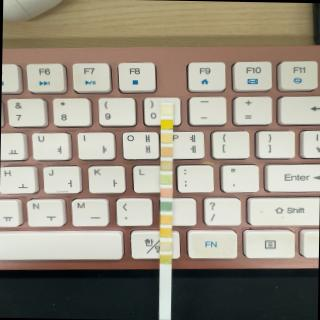mark: (160, 146, 173, 156), (160, 104, 173, 114), (160, 160, 173, 170), (160, 132, 172, 142), (160, 118, 172, 128), (160, 254, 172, 264), (160, 214, 172, 224), (160, 200, 172, 210), (160, 188, 172, 198), (160, 174, 172, 184), (160, 228, 172, 237), (160, 240, 170, 250)
